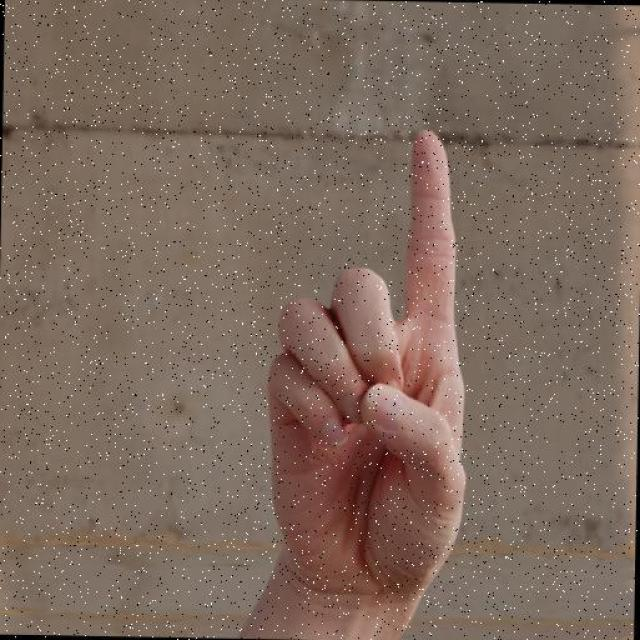D: (261, 126, 480, 628)
